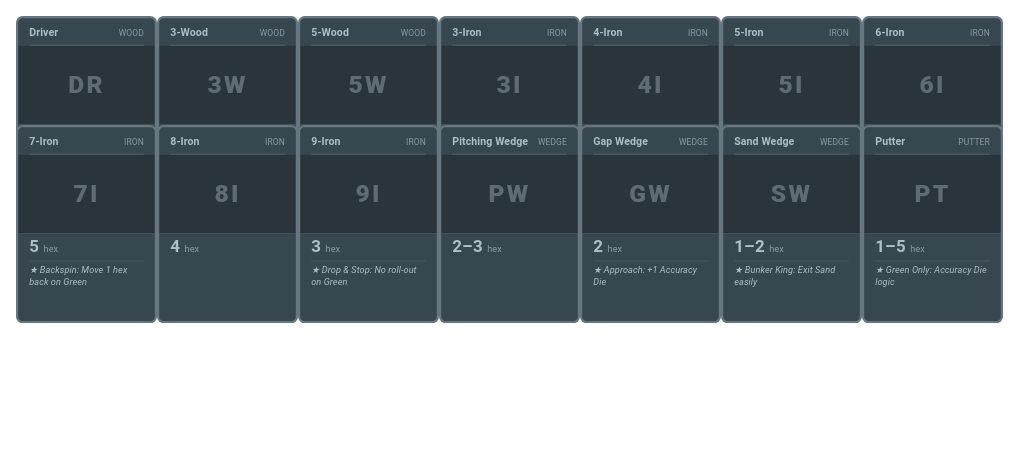
Test case: DeckPanel › selecting a different club returns the previous one to the bag
Click the button with aria-label "Driver, Wood" at (86, 115), box [16,16,157,214]
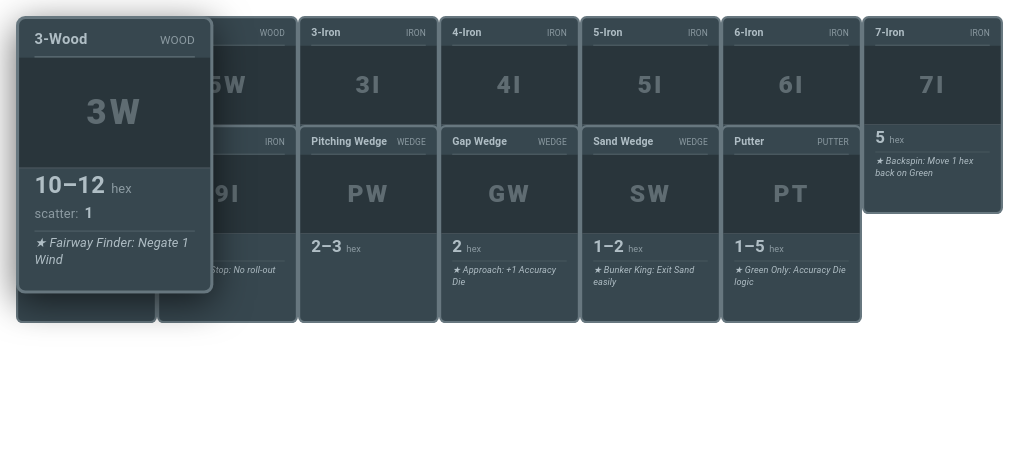
Click the button with aria-label "Putter, Putter" at (792, 224), box [721,125,862,323]
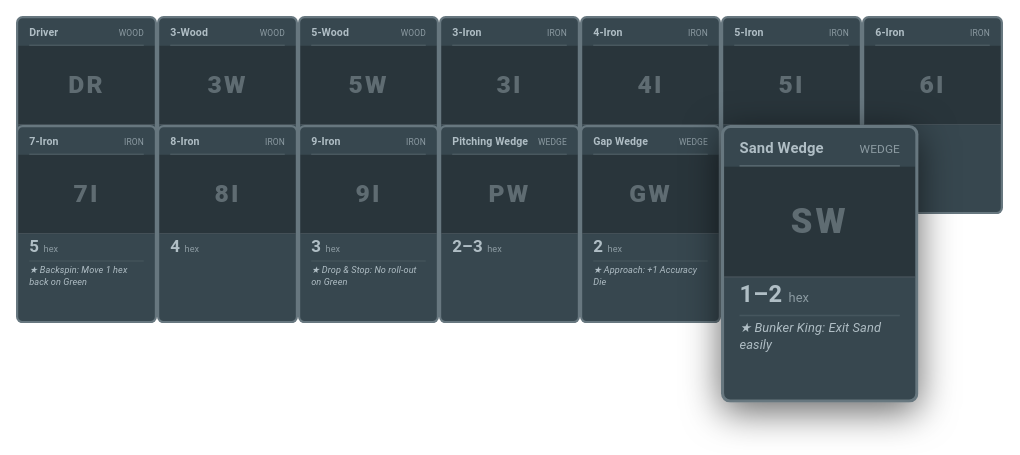
Check: the number of buttons named "Driver, Wood, distance 12–15 hexes" is 13
Check: the button with aria-label "Driver, Wood" is shown, box [16,16,157,214]
